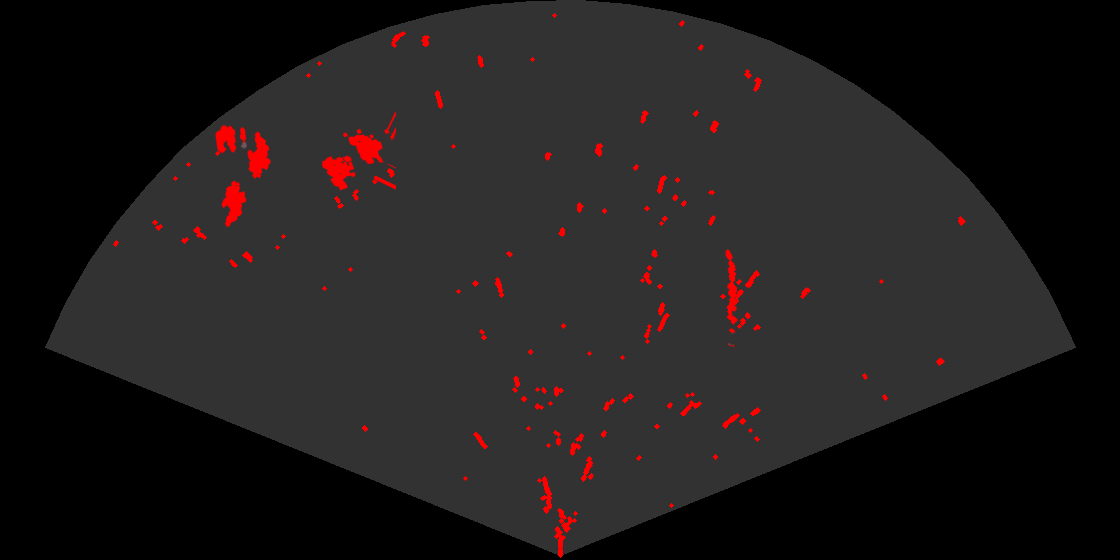AUV: (220, 179, 248, 229), (246, 130, 272, 180)
ball: (214, 124, 248, 155)
cage: (320, 110, 396, 192)
chain: (724, 248, 739, 347)
